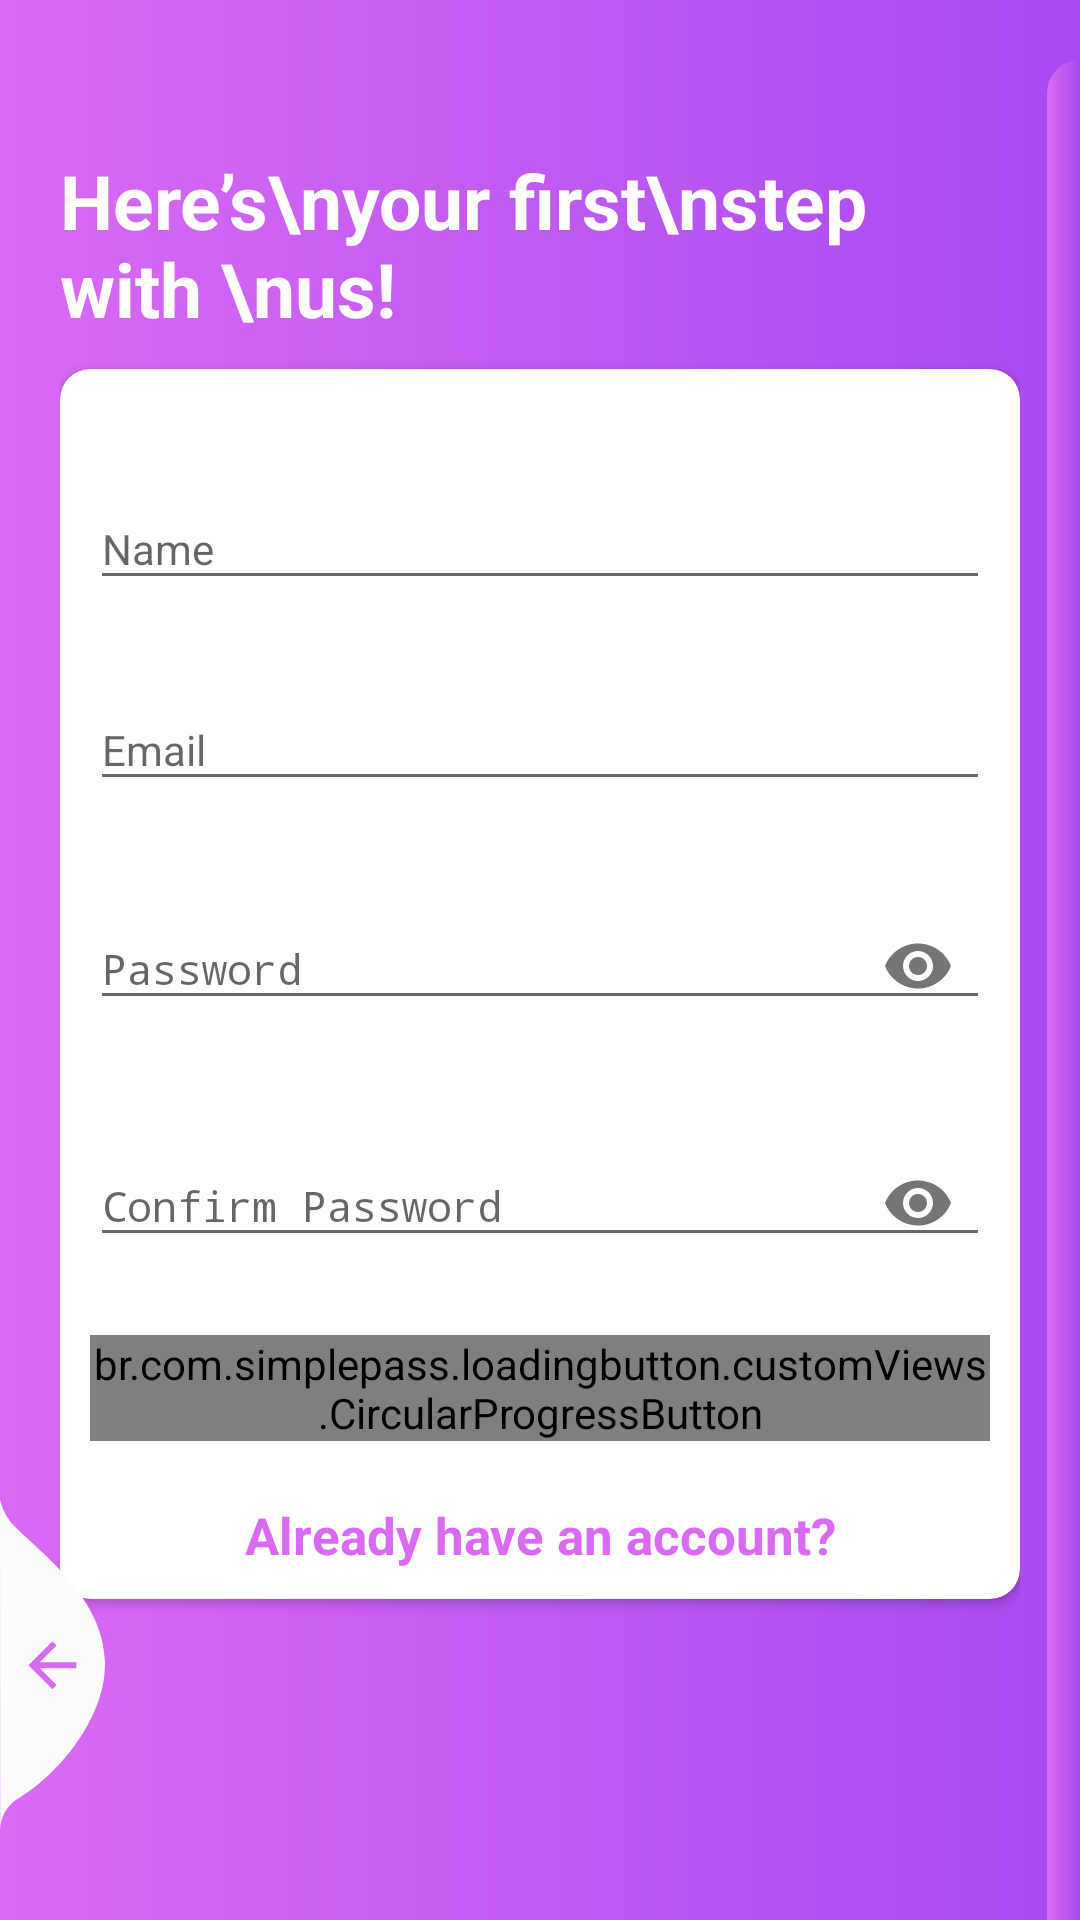

Named icons in this screenshot (1080px×1920px) and their bounding boxes, (x1, y1, x2, y2):
back: (0, 1500, 105, 1828)
